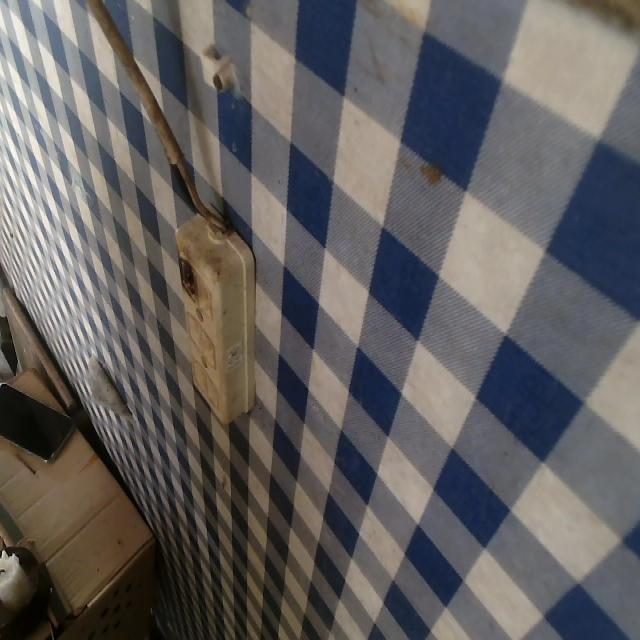-: (172, 255, 198, 301)
